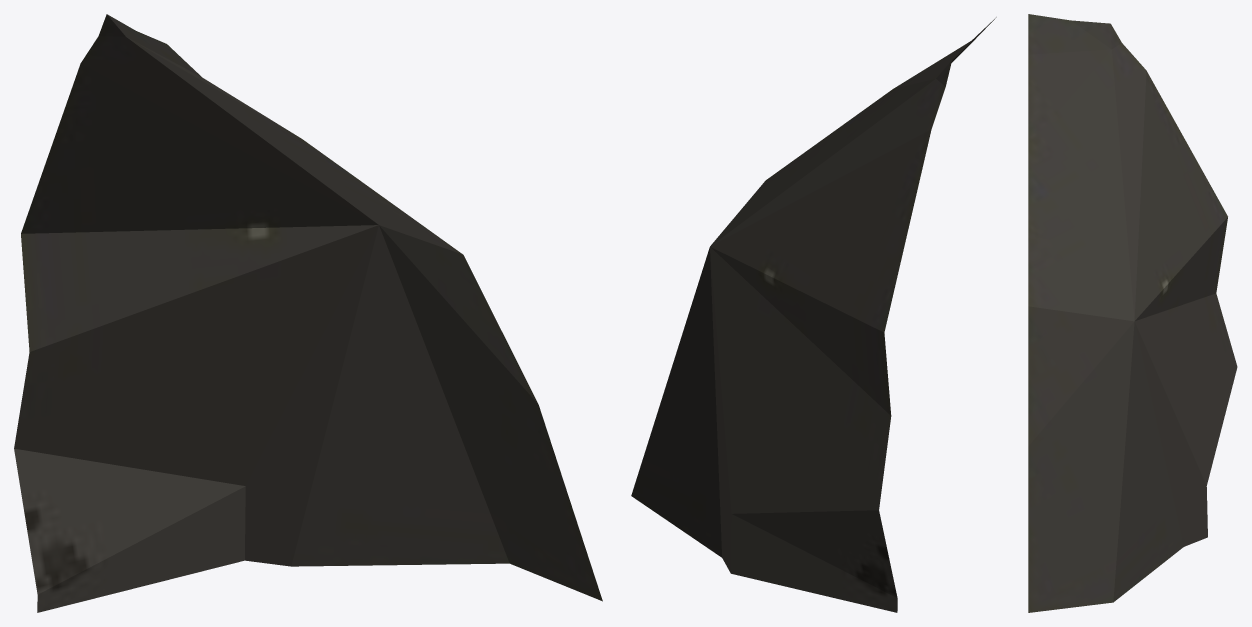
3 renders of one model, left to right at view 1: azimuth 30°, elevation 25°; view 2: azimuth 150°, elevation 25°; view 3: azimuth 270°, elevation 25°, orthographic. The views are drawn at different scales.
Size of the model in its own units: 1.03 by 1.5 by 0.628.
1 material, 1 textured.
